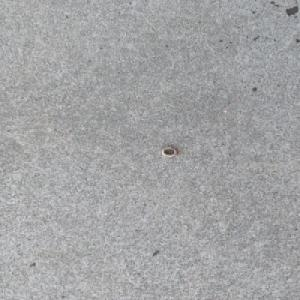Nut: (161, 146, 179, 157)
